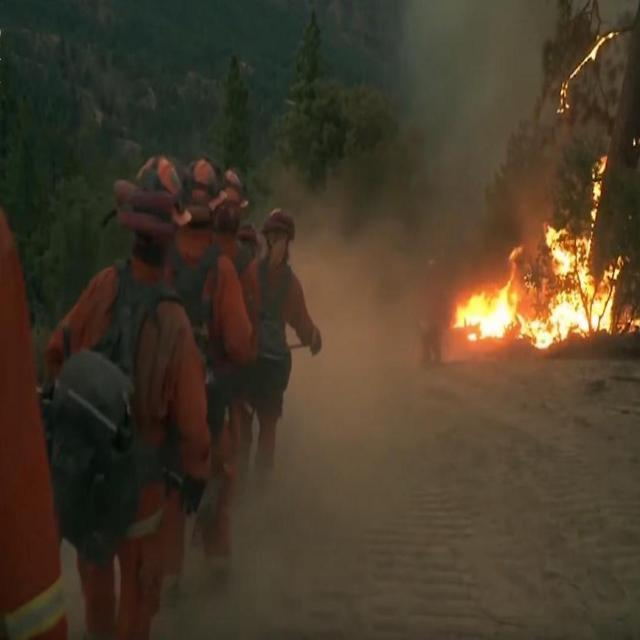Fire: (457, 282, 616, 336)
Smoke: (323, 230, 421, 386), (433, 6, 492, 227)
